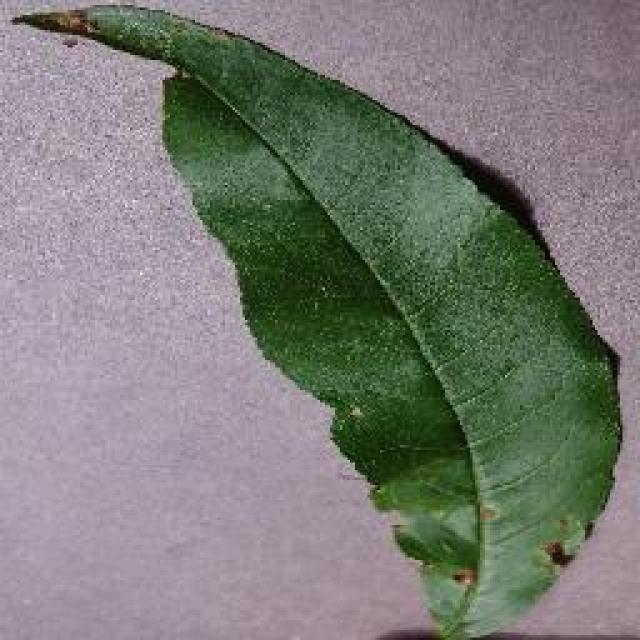Peach_Bacterial_Spot: (45, 0, 573, 530)
